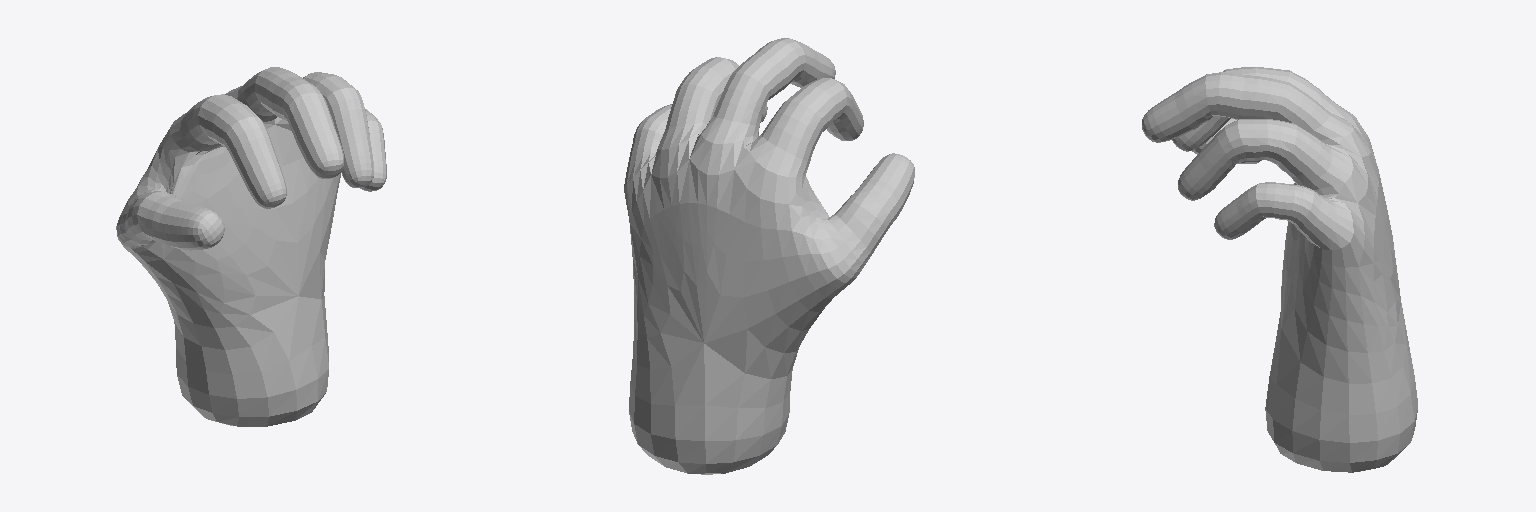
Rendered from handanimatsion41.obj.
3 renders of one model, left to right at view 1: azimuth 30°, elevation 25°; view 2: azimuth 150°, elevation 25°; view 3: azimuth 270°, elevation 25°, orthographic.
Parts seen in each view (by area): view 1: Cube; view 2: Cube; view 3: Cube.
Boxes of the visible parts, <box> form: Cube: <box>116,67,386,426</box>; Cube: <box>624,38,914,474</box>; Cube: <box>1142,67,1417,472</box>.
Bounding box in the file's own units: 3.22 × 4.82 × 3.19.